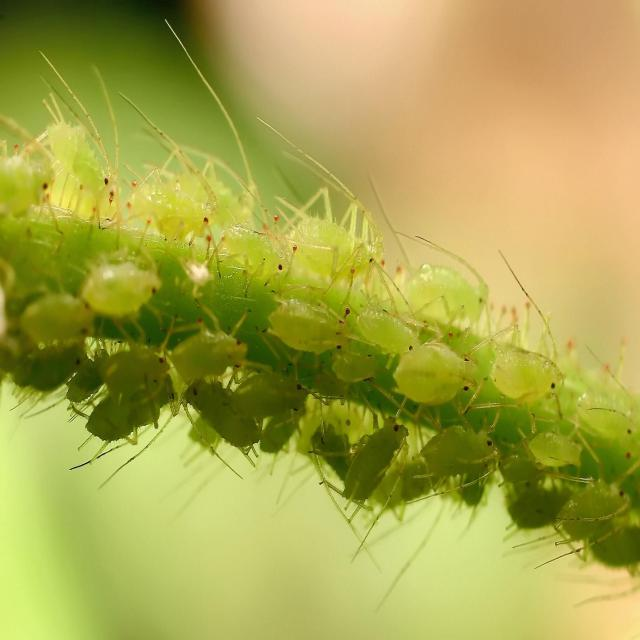aphid: (277, 174, 387, 294), (48, 105, 135, 229), (332, 412, 413, 526), (385, 331, 482, 421), (266, 271, 351, 367), (389, 266, 499, 340), (75, 237, 164, 328), (148, 147, 219, 256), (174, 299, 251, 396), (558, 459, 628, 563), (487, 330, 565, 409), (94, 346, 170, 406), (526, 418, 588, 472)
